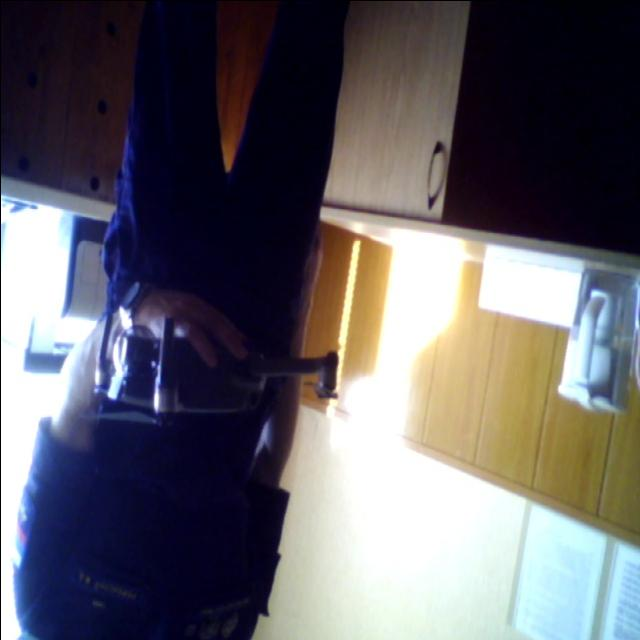drone: (14, 278, 358, 456)
